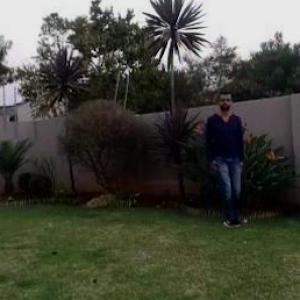follow: (206, 87, 246, 226)
